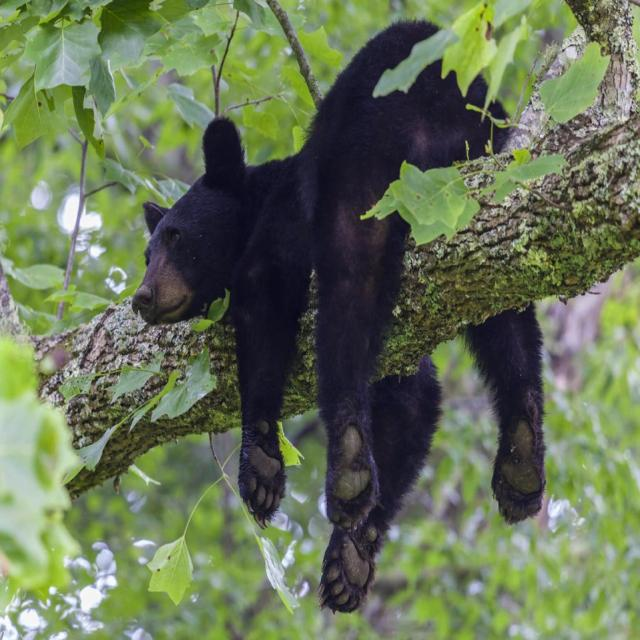bear: (131, 20, 507, 611), (464, 302, 545, 522)
